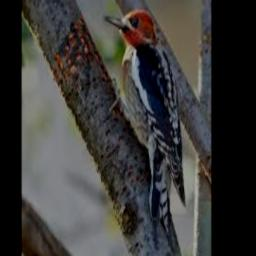Woodpecker: (103, 9, 186, 252)
